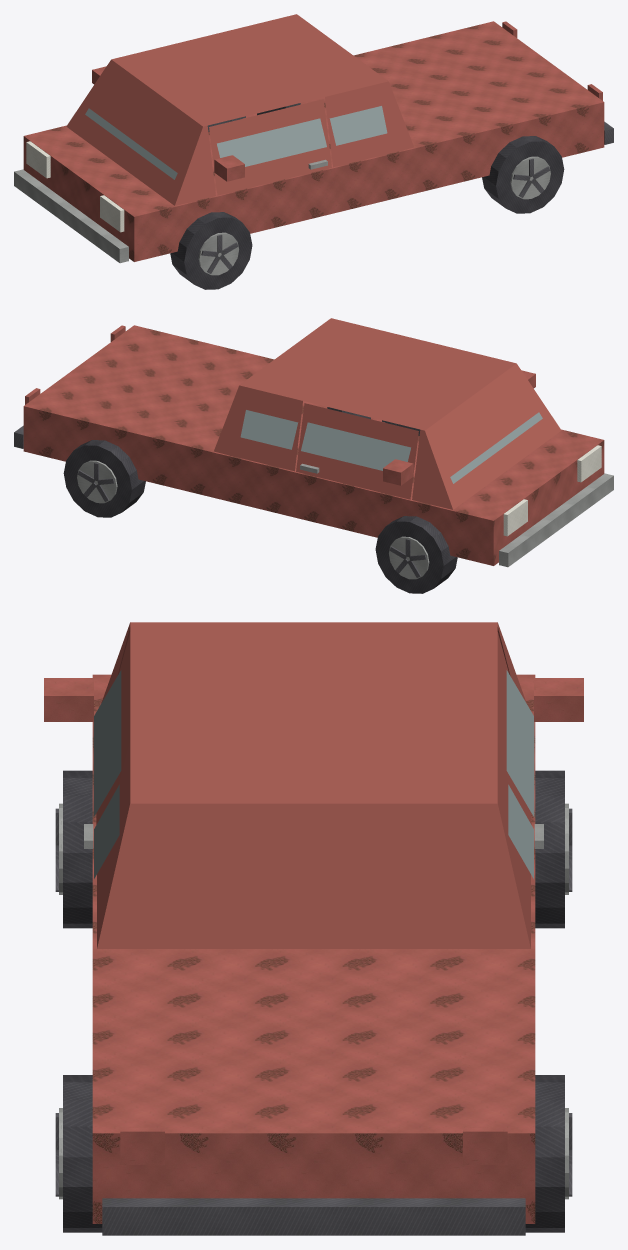
The model's file is vehicle_coupe.glb.
3 renders of one model, top to bottom at view 1: azimuth 30°, elevation 25°; view 2: azimuth 150°, elevation 25°; view 3: azimuth 270°, elevation 25°, orthographic. The views are drawn at different scales.
Visible parts, largest first — view 1: body_panel.003, door_mirror.007, hub.013, hub.015; view 2: body_panel.003, door_mirror.006, hub.012, hub.014; view 3: body_panel.003, door_mirror.006, door_mirror.007, hub.014, hub.015, hub.012, hub.013.
Boxes of the visible parts, <box> form: body_panel.003: <box>14,14,613,263</box>; door_mirror.007: <box>209,99,331,195</box>; hub.013: <box>170,212,252,289</box>; hub.015: <box>482,136,564,213</box>; body_panel.003: <box>14,318,613,567</box>; door_mirror.006: <box>296,403,418,499</box>; hub.012: <box>375,516,457,593</box>; hub.014: <box>63,440,145,517</box>; body_panel.003: <box>92,622,535,1235</box>; door_mirror.006: <box>497,632,583,848</box>; door_mirror.007: <box>44,632,130,848</box>; hub.014: <box>525,1075,572,1232</box>; hub.015: <box>55,1075,102,1232</box>; hub.012: <box>535,770,572,928</box>; hub.013: <box>55,770,92,928</box>.
Size of the model in its own units: 4.34 by 1.26 by 2.06.
Materials: 6 (6 with a texture image).
